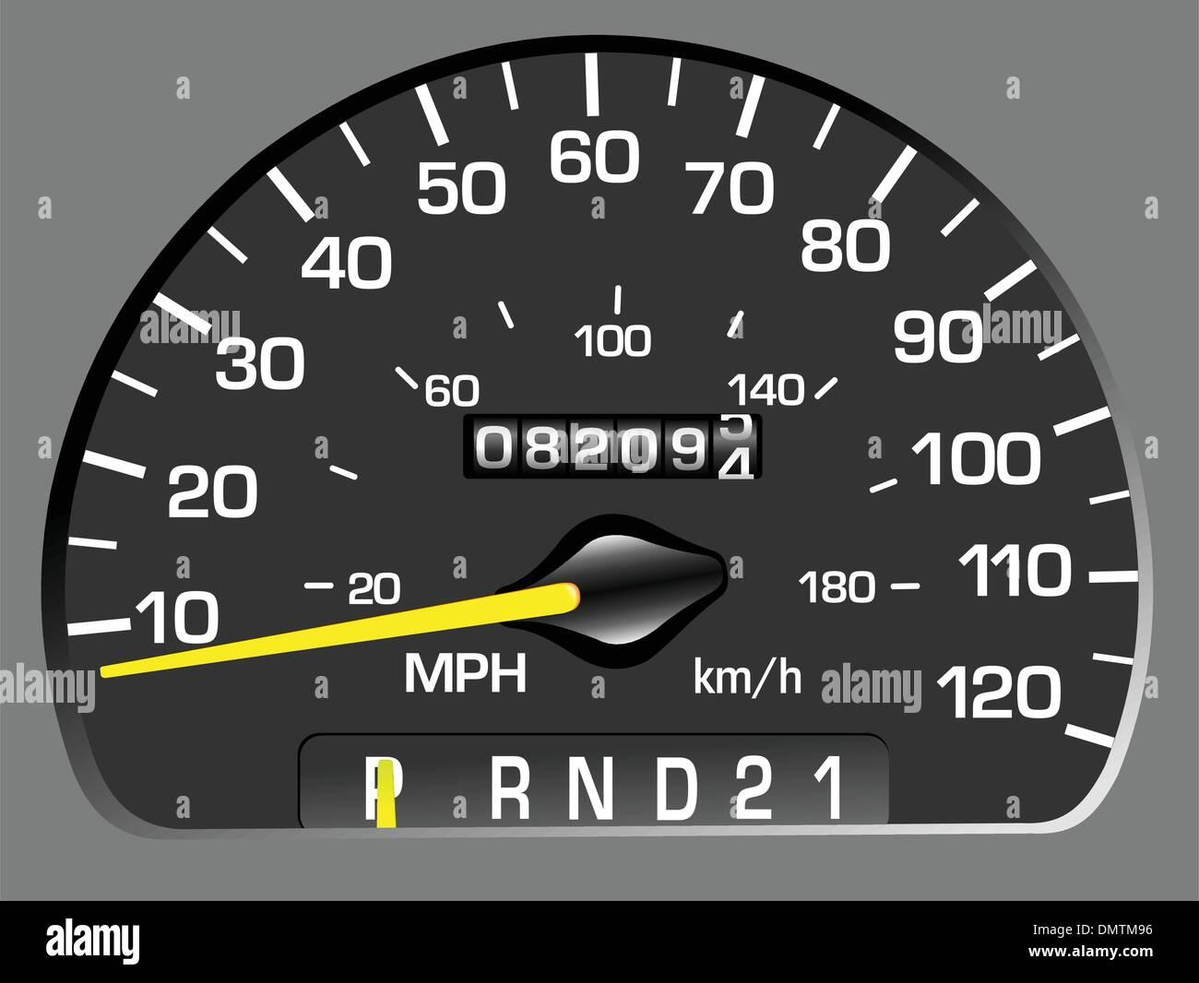0: (475, 425, 513, 470), (622, 429, 659, 475)
2: (573, 425, 610, 473)
4: (716, 443, 755, 479)
5: (716, 414, 754, 440)
8: (526, 426, 560, 470)
9: (671, 427, 706, 473)
odometer: (462, 410, 764, 481)
